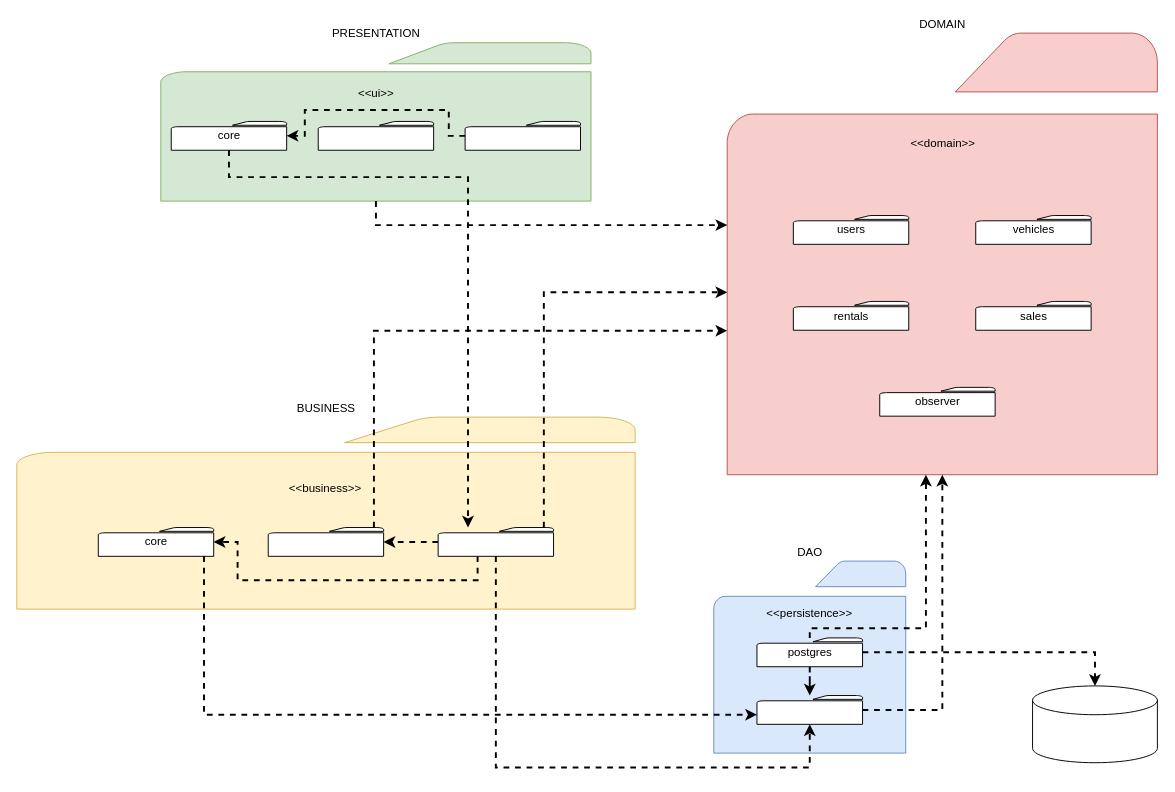
The diagram is 1175 pixels wide and 792 high, and some of its shapes have lost their labels. Each missing label, with the centre of its shape:
"controller" goes at (522,135).
"interfaces" goes at (809,709).
"navigation" goes at (375,135).
"PostgreSQL" goes at (1094,724).
"services" goes at (495,541).
"strategies" goes at (325,541).
